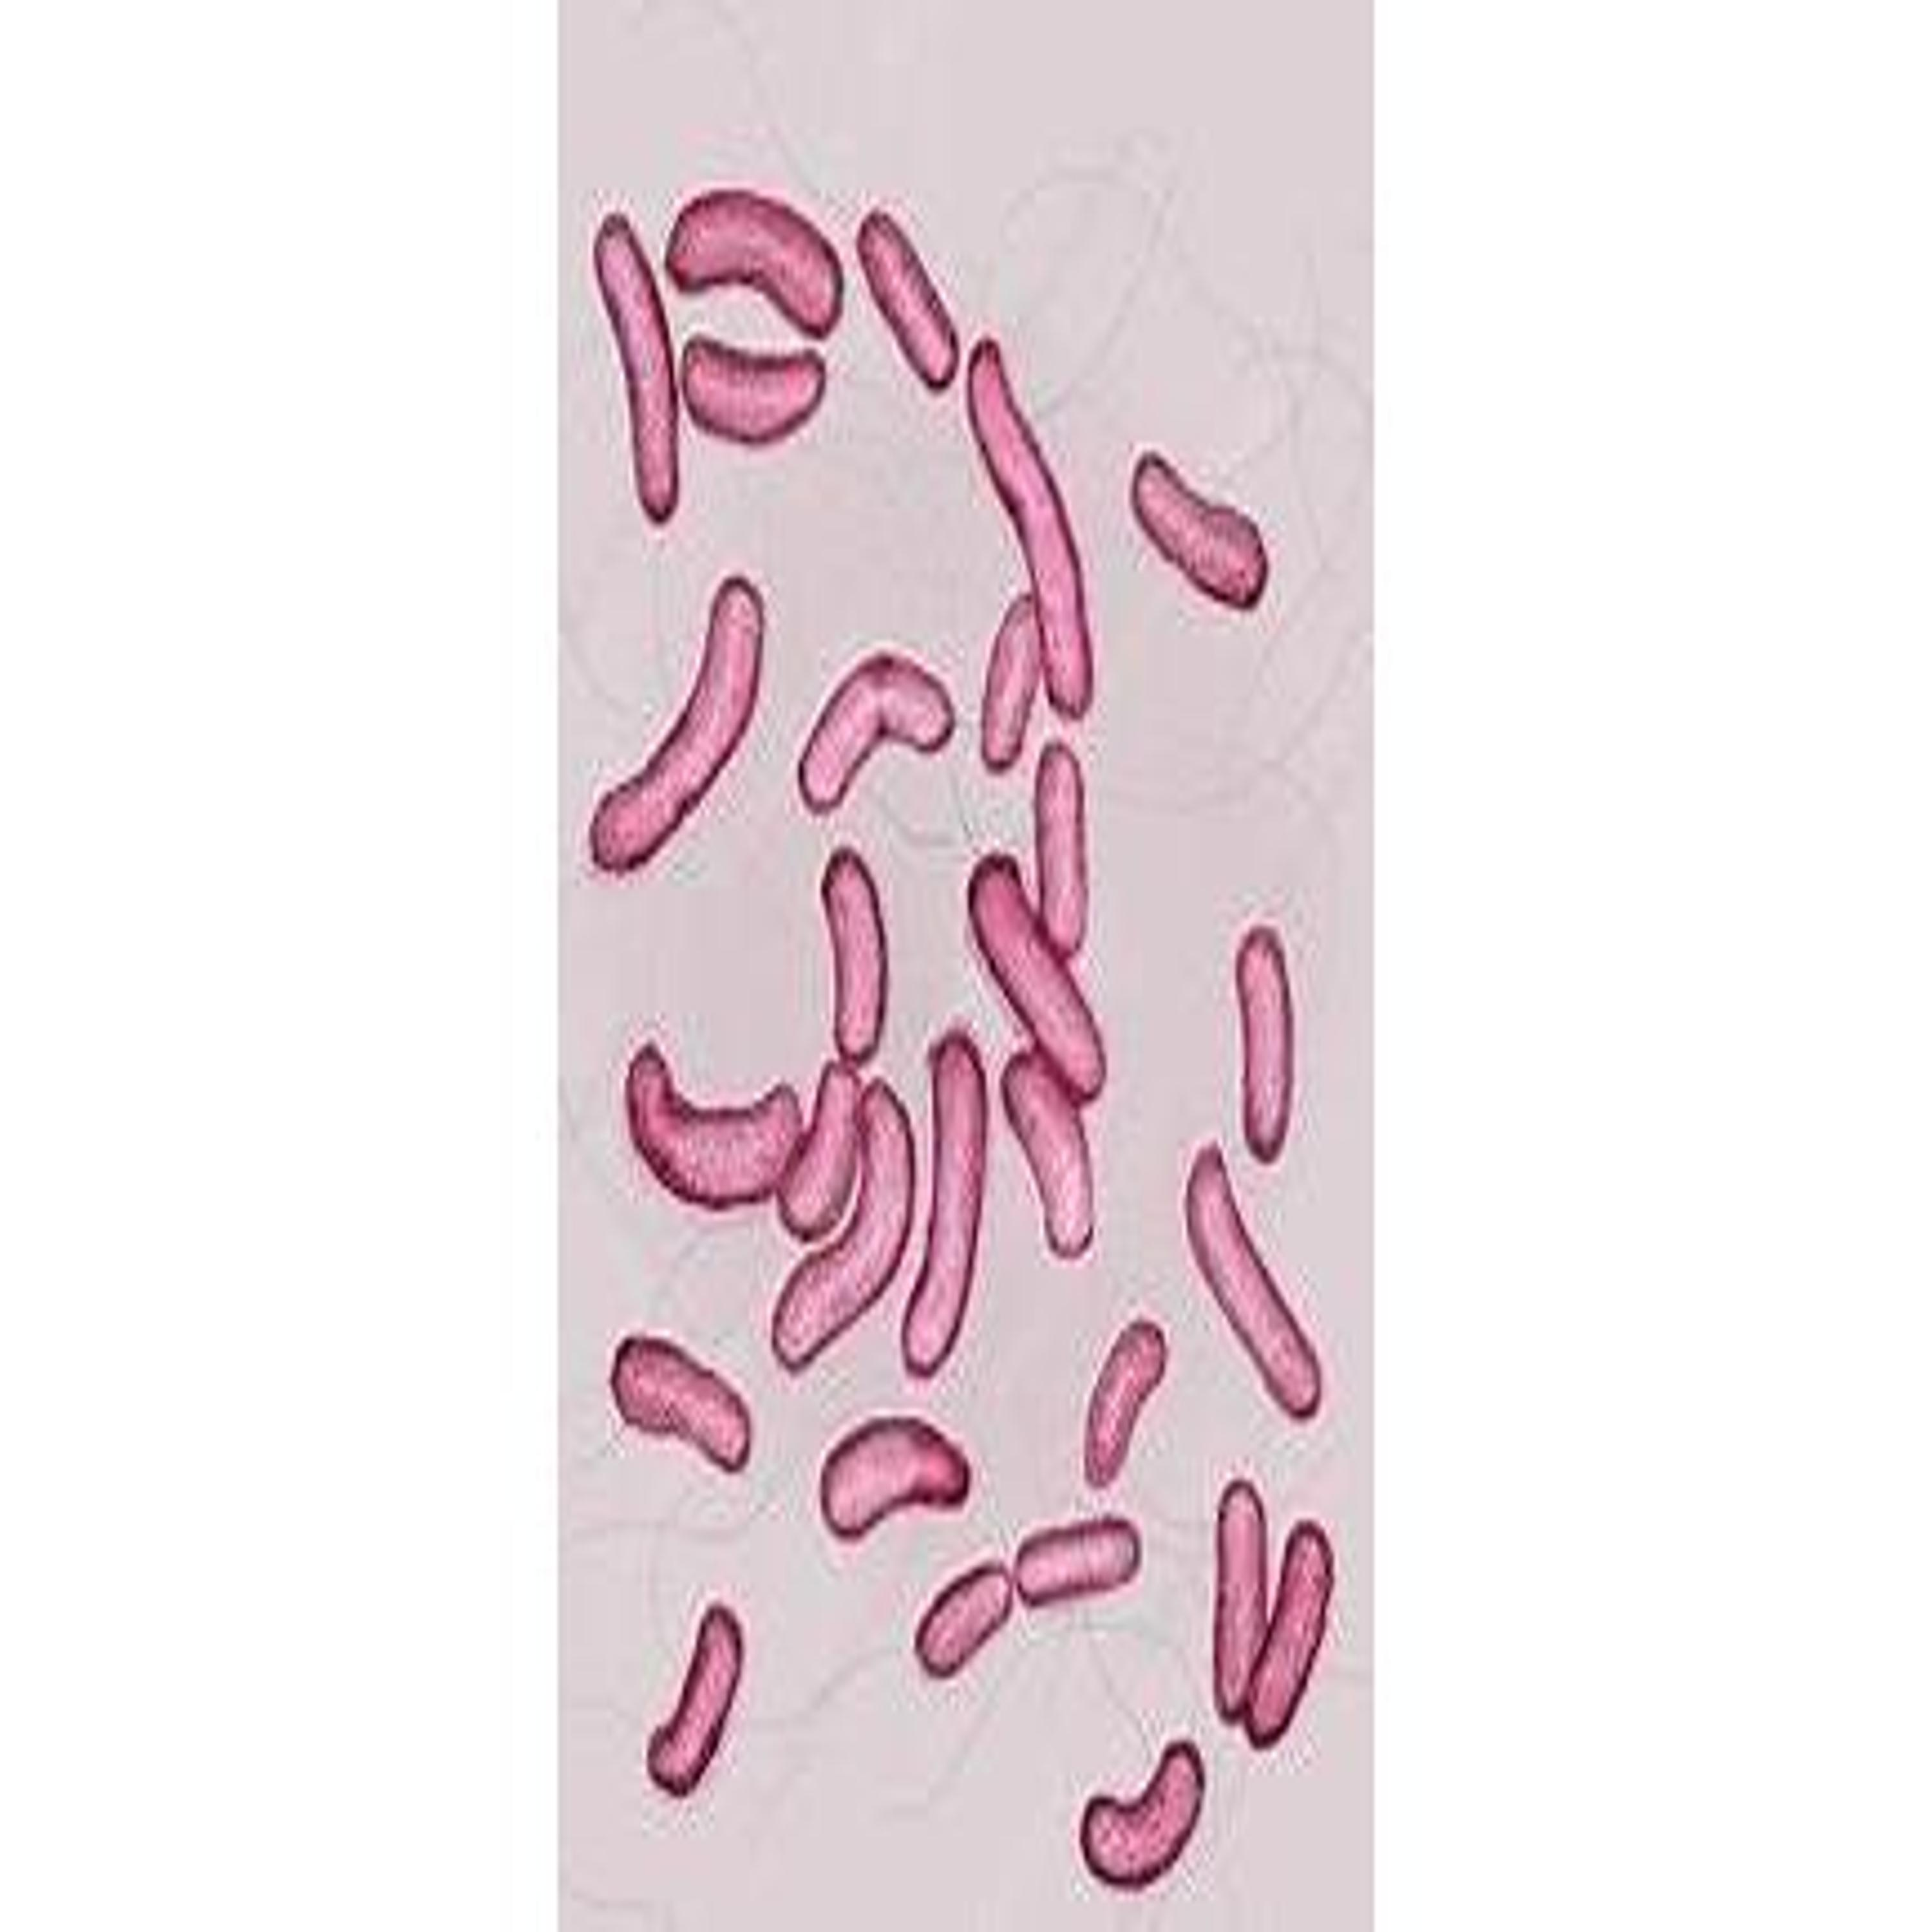Vibrio_cholerae5: (589, 570, 777, 876), (1115, 432, 1274, 610), (614, 1323, 755, 1477), (646, 1601, 743, 1798), (1228, 916, 1302, 1155)
